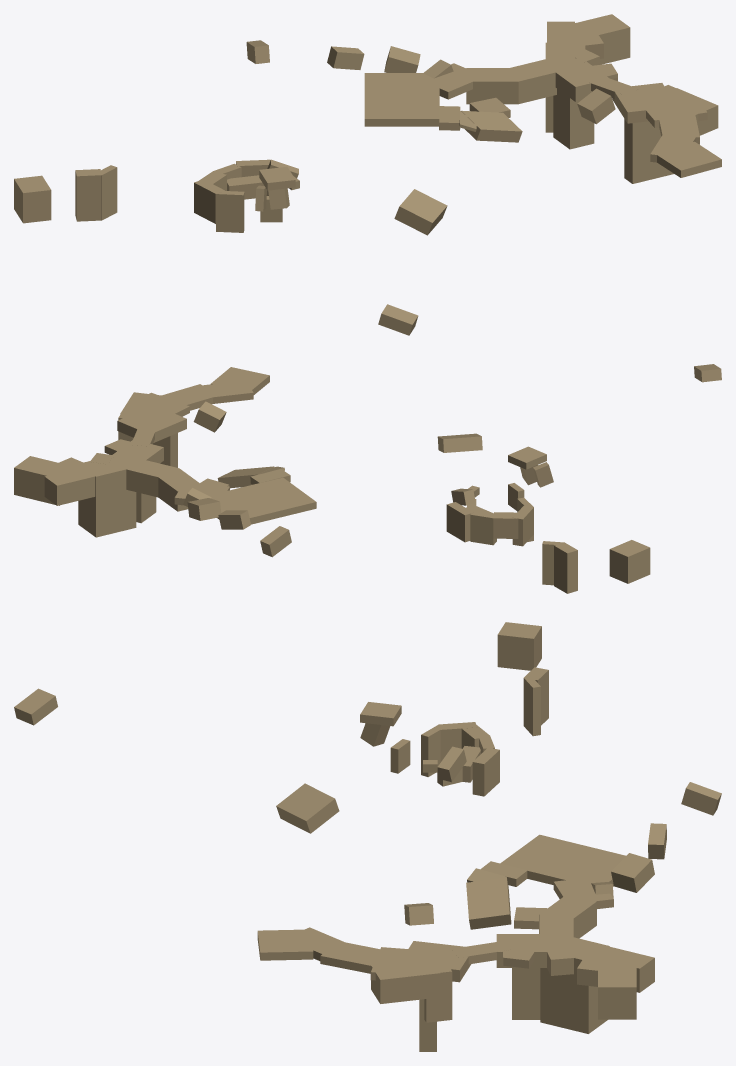
Rendered from p_FloorP2.fbx.
3 views of the same model, one above another, from view 1: azimuth 30°, elevation 25°; view 2: azimuth 150°, elevation 25°; view 3: azimuth 270°, elevation 25° (orthographic). The views are drawn at different scales.
Visible parts, largest first — view 1: Floor_03__229_, Floor_03__262_, Floor_03__249_, Floor_03__281_, Floor_03__231_, Floor_03__230_, Floor_03__257_, Floor_03__234_, Floor_03__266_, Floor_03__259_, Floor_03__210_, Floor_03__241_ (+19 smaller); view 2: Floor_03__236_, Floor_03__229_, Floor_03__281_, Floor_03__257_, Floor_03__228_, Floor_03__234_, Floor_03__230_, Floor_03__259_, Floor_03__233_, Floor_03__231_, Floor_03__209_, Floor_03__256_ (+20 smaller); view 3: Floor_03__236_, Floor_03__229_, Floor_03__281_, Floor_03__280_, Floor_03__241_, Floor_03__257_, Floor_03__266_, Floor_03__210_, Floor_03__233_, Floor_03__234_, Floor_03__249_, Floor_03__231_ (+19 smaller).
Part boxes in pixels (x1,y1,x2,y2): Floor_03__229_: (364, 73, 439, 126); Floor_03__262_: (624, 119, 673, 183); Floor_03__249_: (553, 89, 594, 149); Floor_03__281_: (564, 14, 630, 64); Floor_03__231_: (466, 68, 518, 104); Floor_03__230_: (502, 59, 562, 103); Floor_03__257_: (14, 175, 51, 223); Floor_03__234_: (612, 83, 676, 123); Floor_03__266_: (394, 189, 447, 235); Floor_03__259_: (75, 169, 101, 221); Floor_03__210_: (657, 141, 721, 177); Floor_03__241_: (461, 110, 522, 142); Floor_03__236_: (78, 460, 136, 537); Floor_03__229_: (208, 477, 316, 524); Floor_03__281_: (14, 456, 75, 505); Floor_03__257_: (609, 540, 650, 583); Floor_03__228_: (44, 467, 96, 505); Floor_03__234_: (117, 405, 186, 442); Floor_03__230_: (126, 458, 178, 497); Floor_03__259_: (554, 543, 577, 593); Floor_03__233_: (148, 384, 218, 410); Floor_03__231_: (158, 468, 202, 511); Floor_03__209_: (201, 380, 253, 403); Floor_03__256_: (446, 502, 473, 542); Floor_03__236_: (540, 937, 609, 1033); Floor_03__229_: (500, 834, 625, 886); Floor_03__281_: (598, 960, 636, 1019); Floor_03__280_: (371, 963, 440, 1003); Floor_03__241_: (466, 877, 511, 929); Floor_03__257_: (497, 622, 541, 670); Floor_03__266_: (276, 783, 339, 833); Floor_03__210_: (257, 929, 313, 960); Floor_03__233_: (320, 941, 404, 973); Floor_03__234_: (401, 941, 471, 982); Floor_03__249_: (512, 968, 540, 1019); Floor_03__231_: (539, 894, 596, 938).
Bounding box in the file's own units: 9002 × 1500 × 7947.
